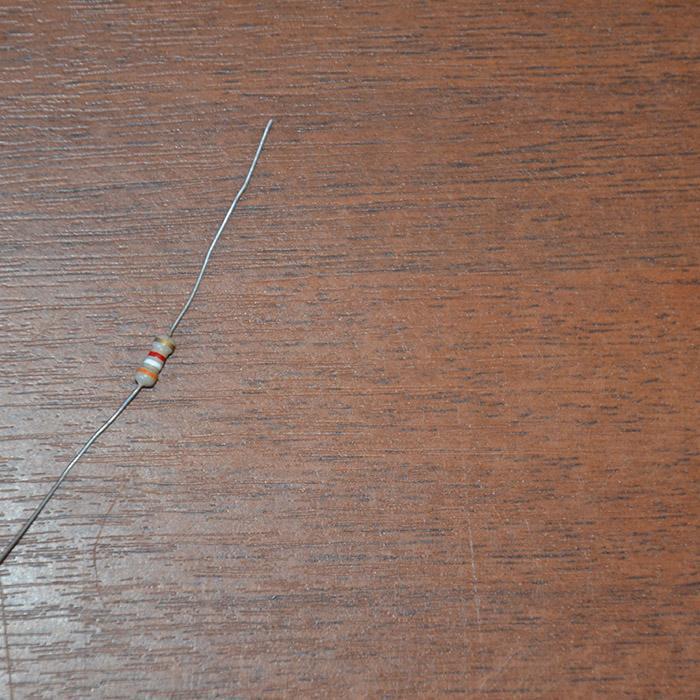resistor: (134, 335, 175, 387)
